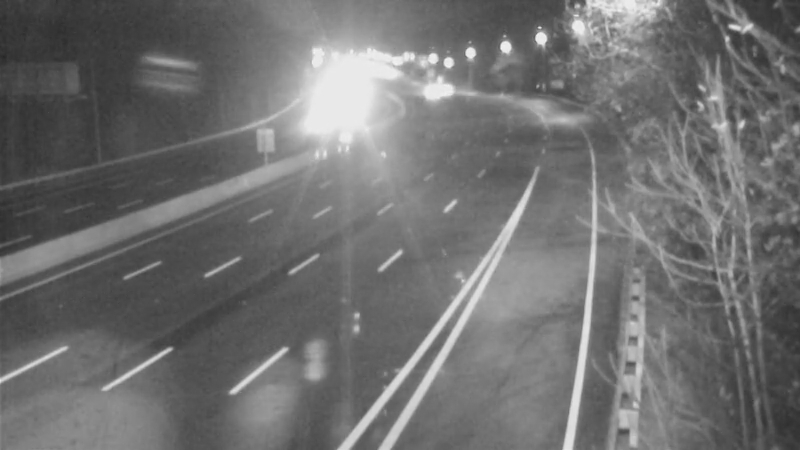vehicle: (400, 65, 450, 115), (418, 61, 468, 111), (287, 94, 337, 144)
